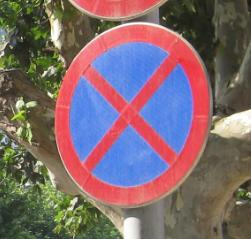No Parking: (58, 23, 213, 205)
